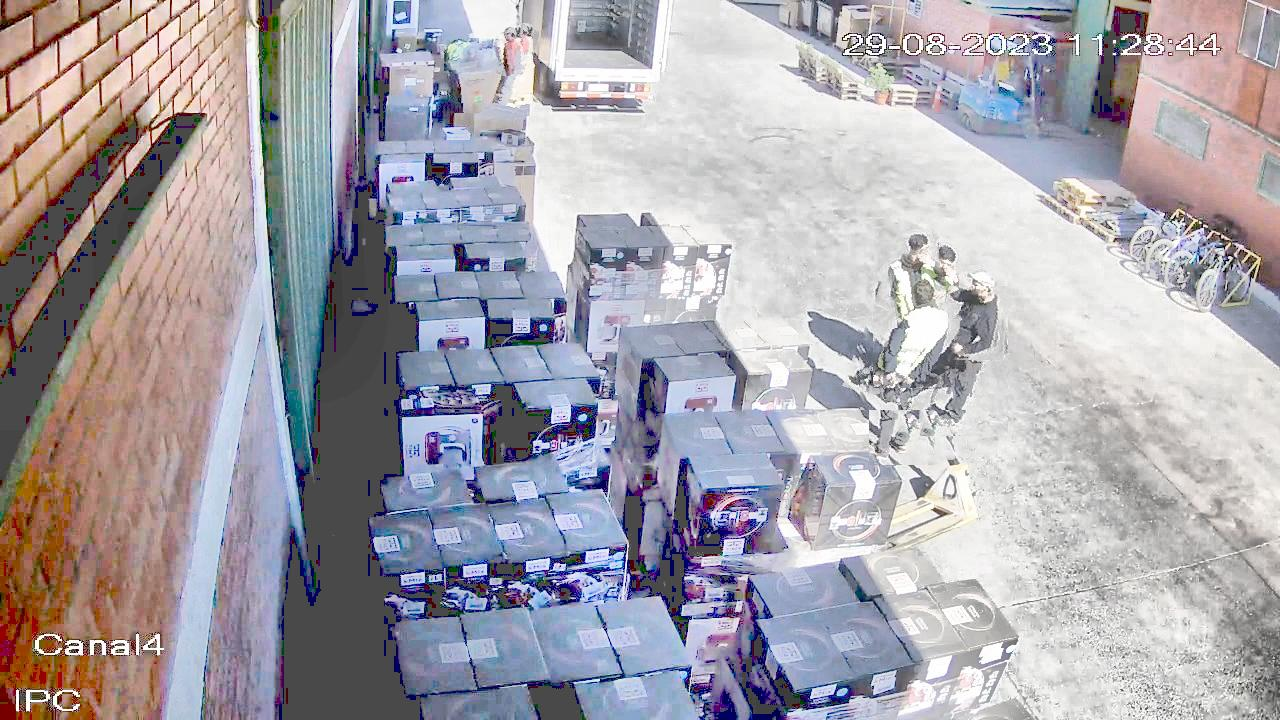con-casco: (960, 265, 1006, 307), (499, 23, 523, 43)
con-chaleco: (873, 301, 962, 388), (889, 252, 949, 329), (445, 39, 480, 72)
persona: (856, 225, 971, 411), (911, 262, 1009, 437), (870, 277, 951, 465), (486, 24, 533, 121), (441, 34, 482, 113)
sin-casco: (901, 275, 945, 319), (900, 230, 940, 276)
sin-chaleco: (939, 287, 1011, 361), (495, 37, 526, 77)
